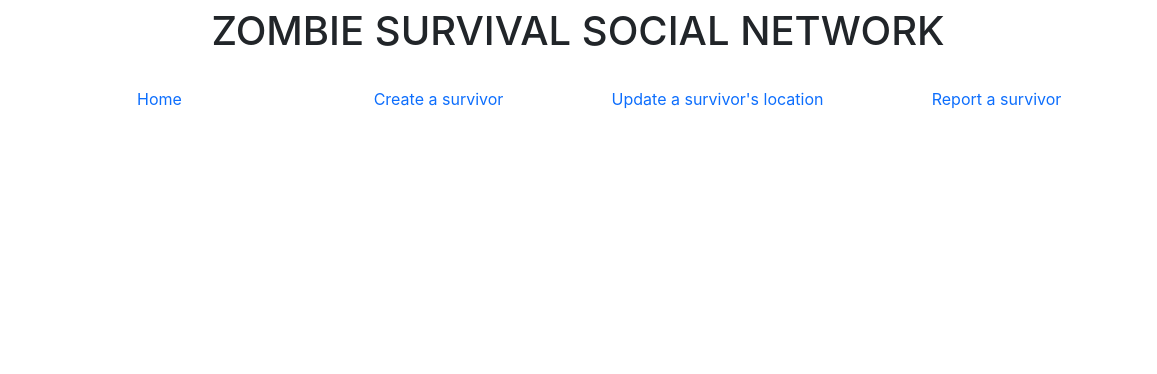
Scenario: create a infection report successfully › creates a survivor with the minimal necessary fields
Click the link with test id "report-infection-link": (997, 99) [932, 89, 1062, 109]
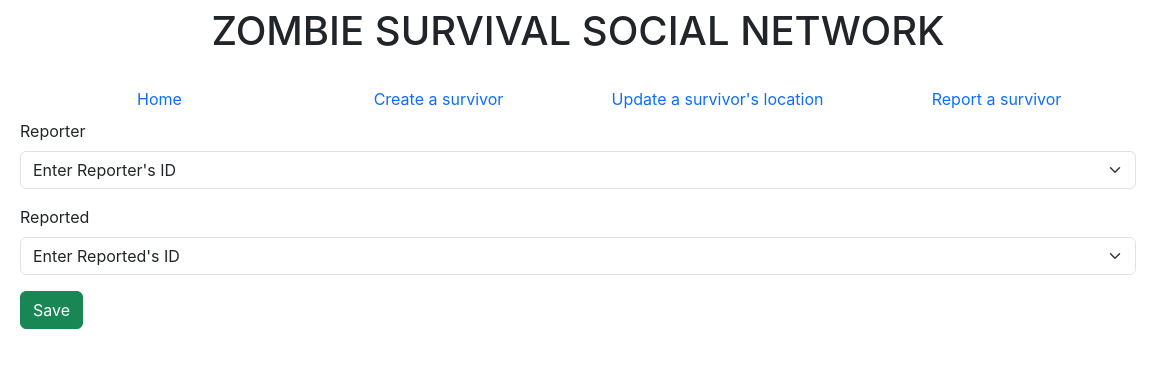
// Fills up the form
Select "John Doe" in the dropdown with id "infection-reporter": (578, 170) [20, 151, 1136, 189]
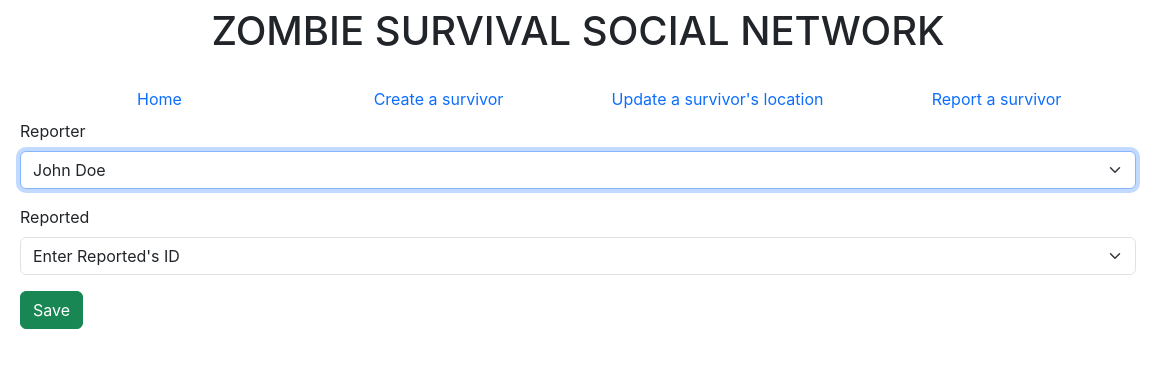
Select "Marie Pop" in the dropdown with id "infection-reported": (578, 256) [20, 237, 1136, 275]
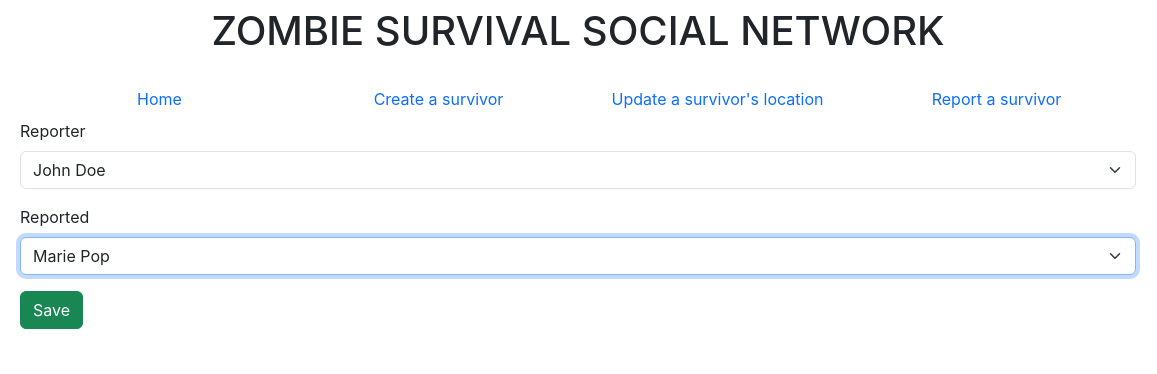
Click the button with test id "save-button": (52, 310) [20, 291, 83, 329]
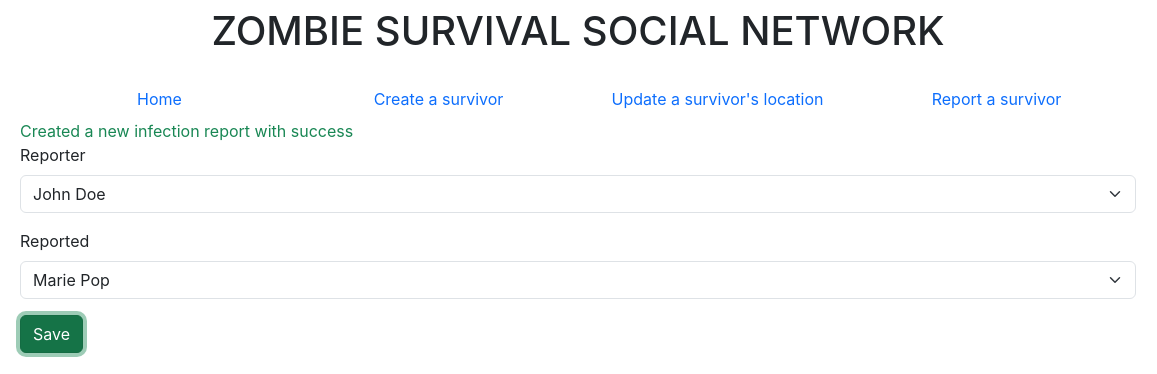
Now the text "Created a new infection report with success" is shown, box [20, 121, 353, 141]
